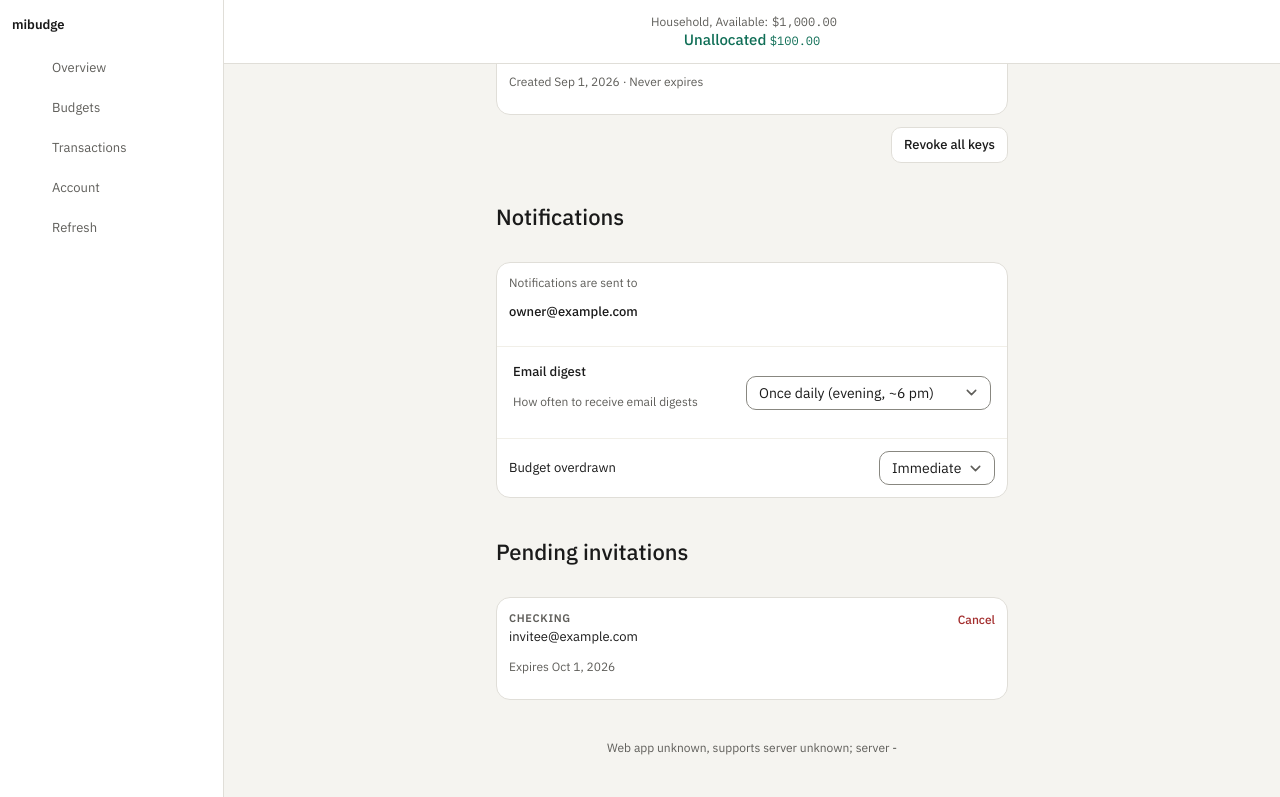
it: settings pages › shows why a notification preference was refused
(page scrolled)
Select "Off" in the dropdown in the row of "Budget overdrawn" at (937, 468), box [879,451,995,485]
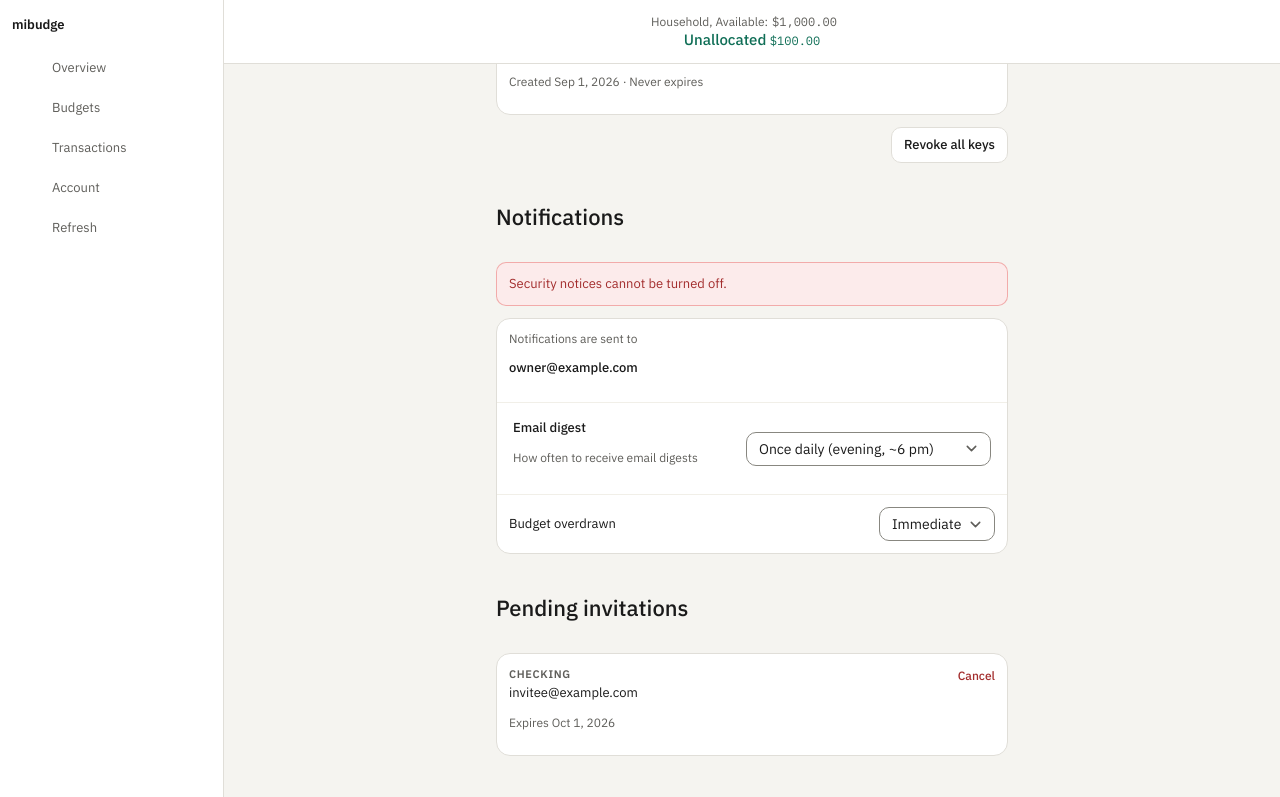
Now the text "Security notices cannot be turned off." is shown, box [496,262,1008,306]
